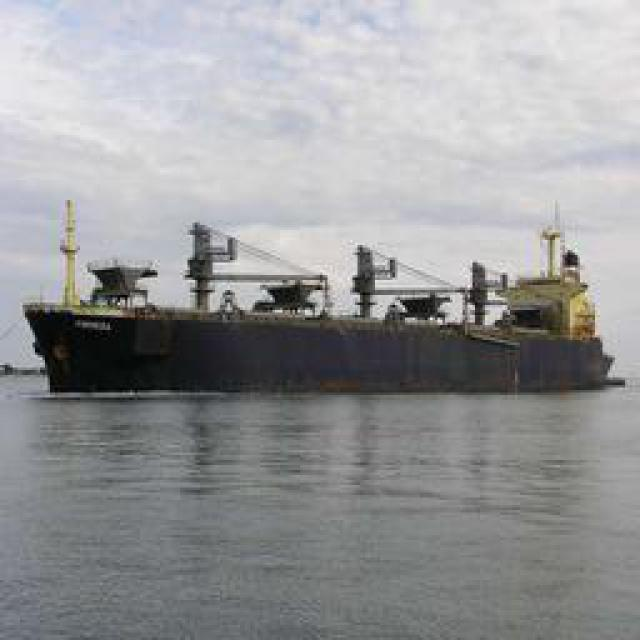Ship: (21, 197, 616, 395)
